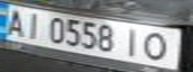0: (42, 15, 66, 45)
5: (78, 20, 100, 51), (63, 17, 81, 48)
8: (97, 21, 118, 54)
A: (0, 6, 30, 37)
I: (118, 26, 148, 59), (21, 10, 48, 39)
O: (136, 29, 178, 62)
